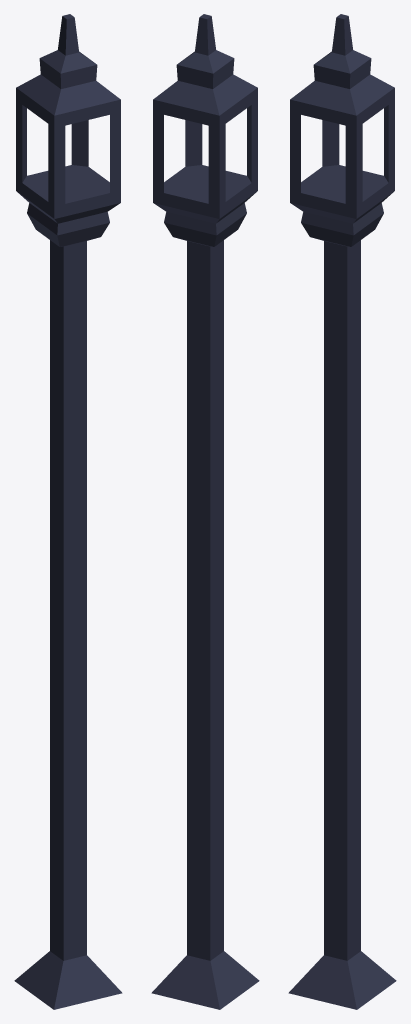
File: Streetlight.fbx
3 views of the same model, side by side, from view 1: azimuth 30°, elevation 25°; view 2: azimuth 150°, elevation 25°; view 3: azimuth 330°, elevation 25° (orthographic).
Visible parts, largest first — view 1: Street Light; view 2: Street Light; view 3: Street Light.
Boxes of the visible parts, x1,y1,x2,y2 form: Street Light: (14, 14, 122, 1009); Street Light: (151, 14, 259, 1009); Street Light: (288, 14, 396, 1009).
Size of the model in its own units: 45.87 by 618 by 45.87.
